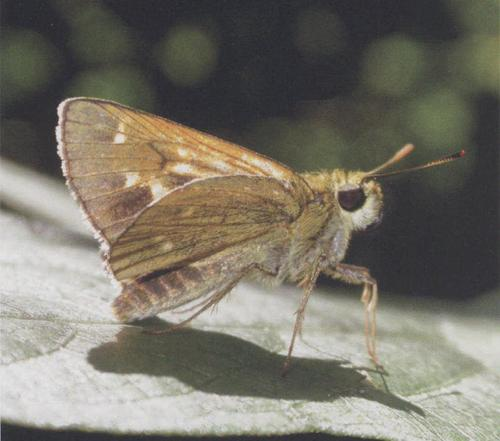Hesperiidae: (54, 92, 466, 377)
